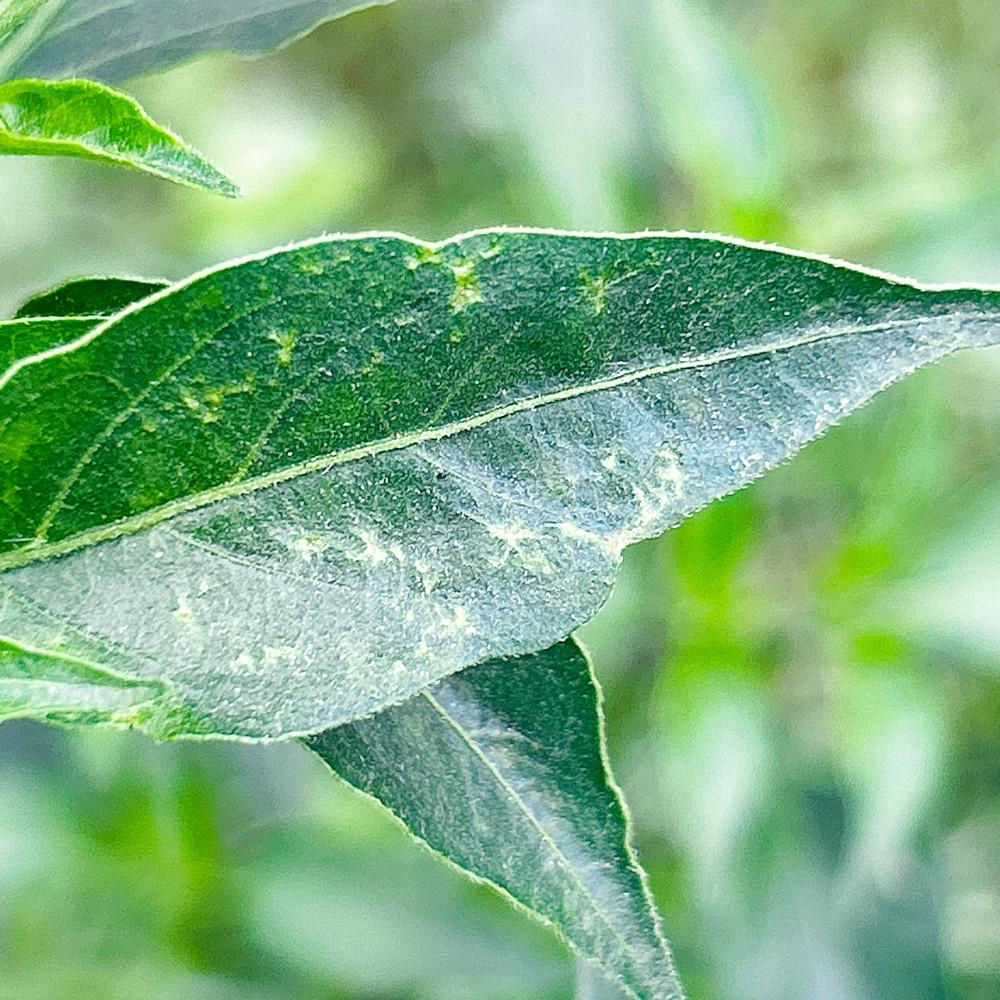Daun Cabai Sehat: (0, 222, 998, 746), (294, 630, 685, 998)
